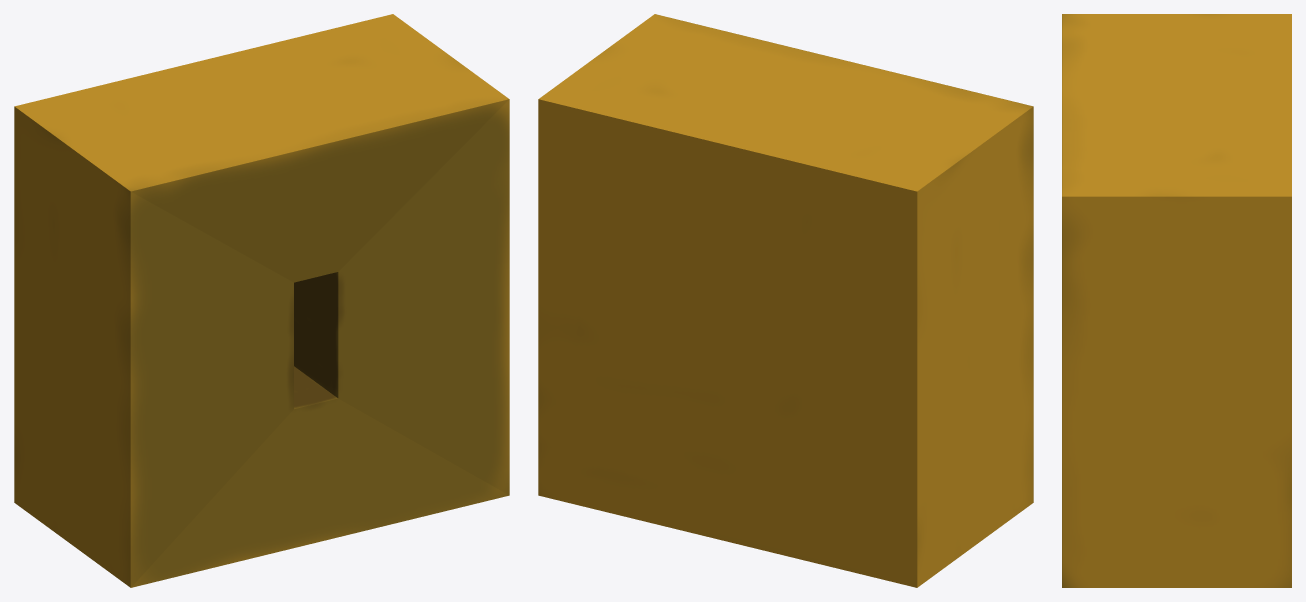
Rendered from Key_Hole.fbx.
3 views of the same model, side by side, from view 1: azimuth 30°, elevation 25°; view 2: azimuth 150°, elevation 25°; view 3: azimuth 270°, elevation 25° (orthographic).
Visible parts, largest first — view 1: Key_Hole; view 2: Key_Hole; view 3: Key_Hole.
Part boxes in pixels (x1,y1,x2,y2): Key_Hole: (14, 14, 509, 587); Key_Hole: (538, 14, 1033, 587); Key_Hole: (1062, 14, 1291, 587).
Bounding box in the file's own units: 5.36 × 5.36 × 2.85.
